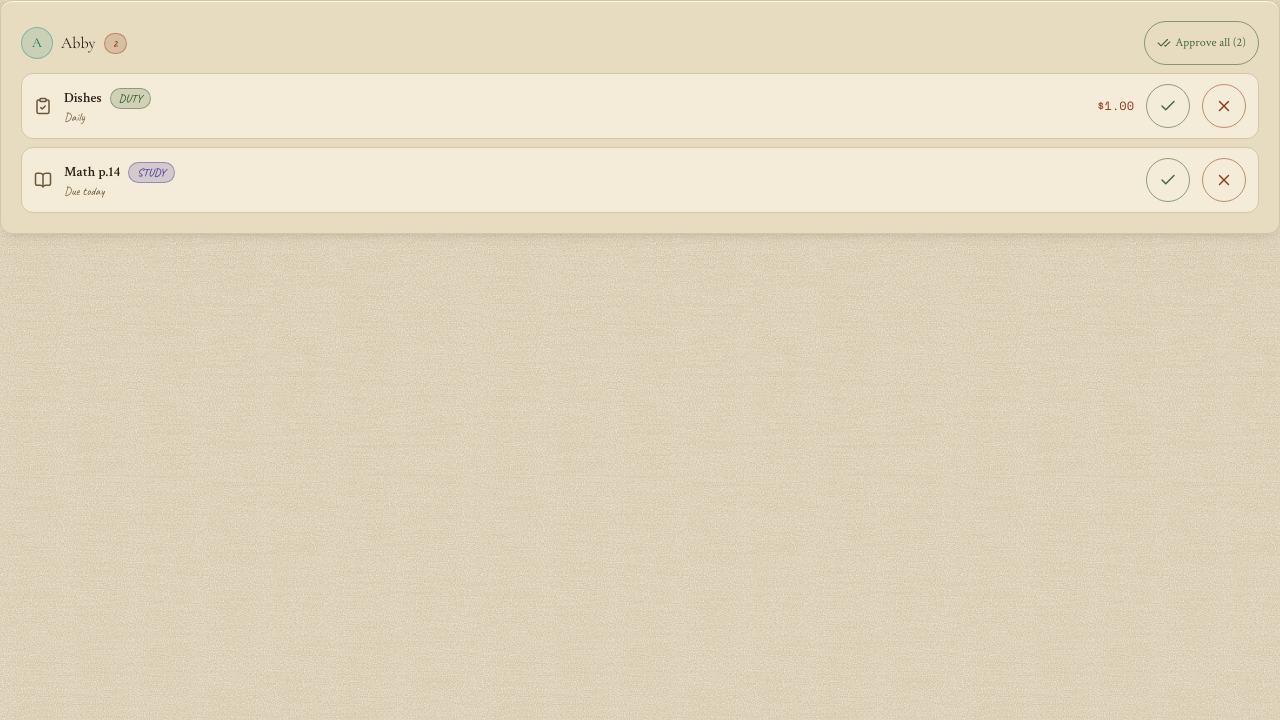
ApprovalQueueList › bulk approve fans out a request per row and removes them on success
The width and height of the screenshot is (1280, 720).
Click the button with aria-label "approve all 2 from abby": [1202, 43] box [1144,21,1259,65]
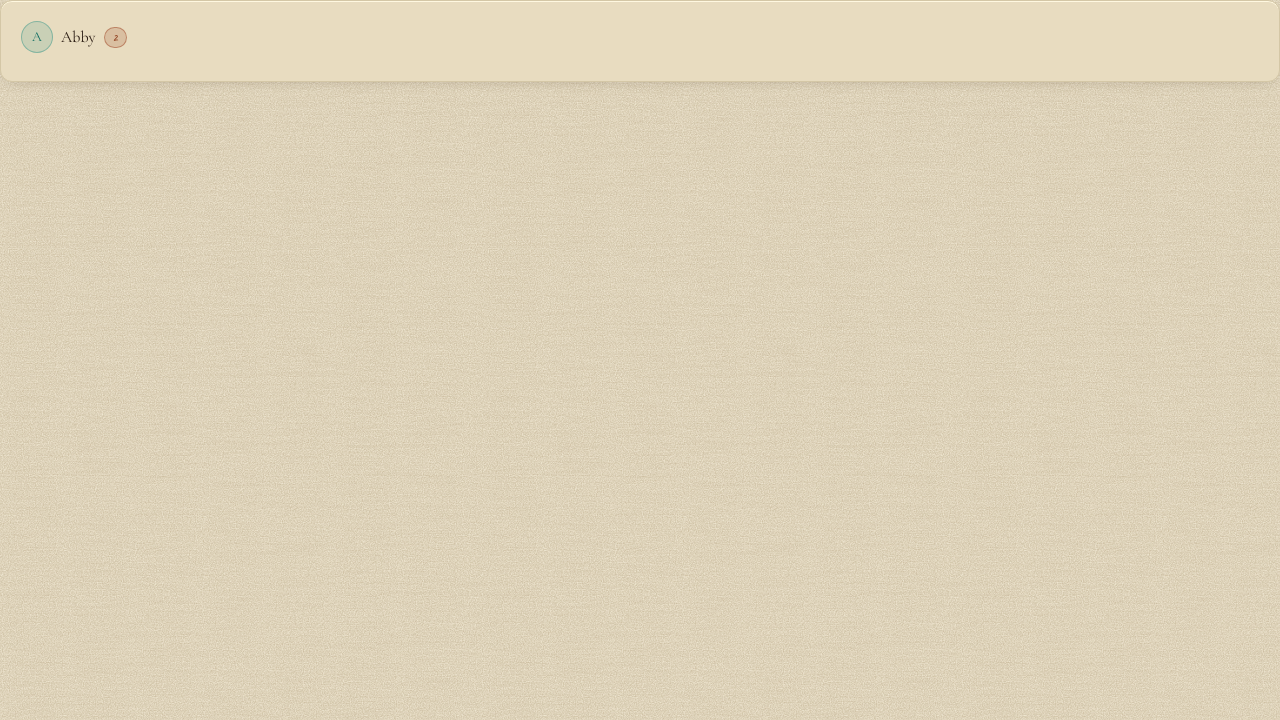
Check: the text "Dishes" is gone
Check: the text "Math p.14" is gone
